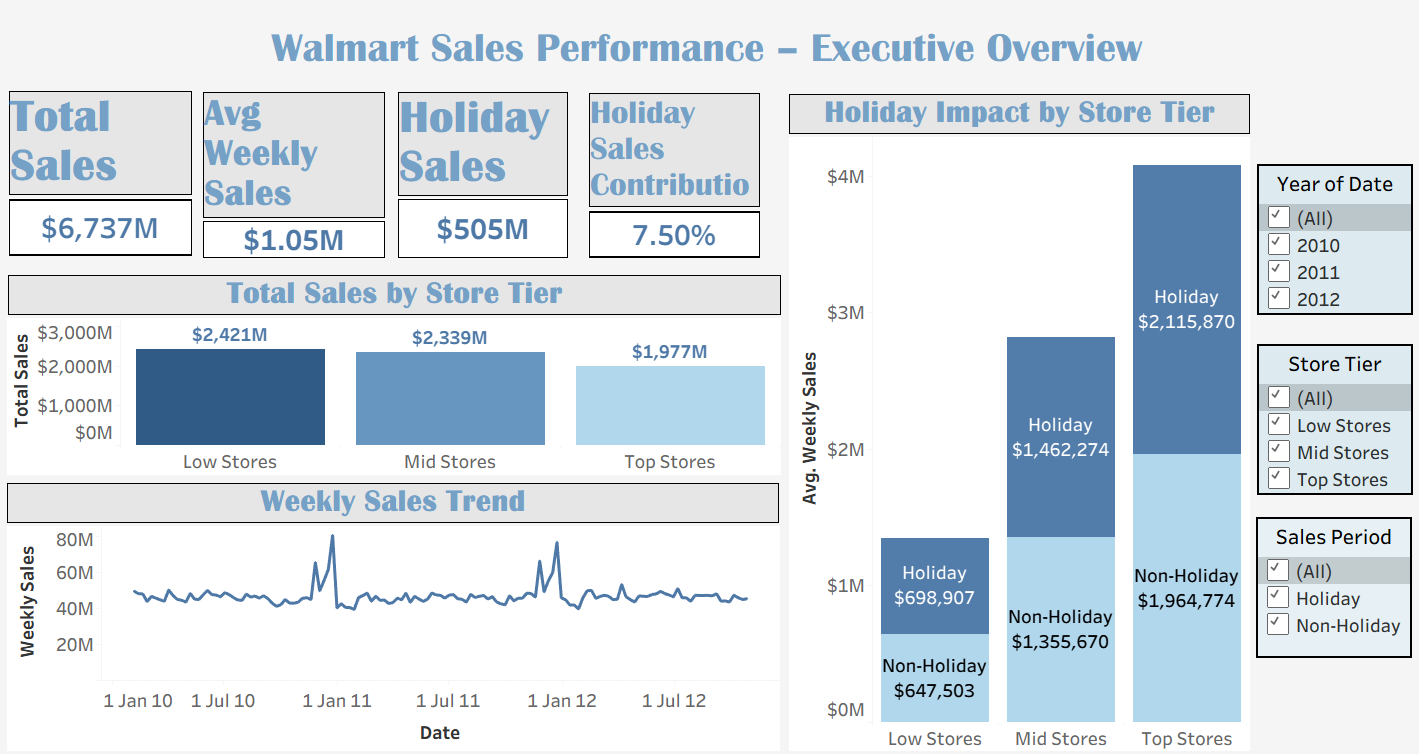

Layout of this report page (visuals, bound fields, positions):
{"tool":"tableau","page":{"name":"Dashboard 1","canvas":[1000,1000],"units":"permille","ordinal":0},"visuals":[{"type":"text","box":[1.9,15.8,993,97.6]},{"type":"worksheet","title":"KPI - Total Sales","mark":"Automatic","box":[5.6,121.4,129.7,217.7]},{"type":"worksheet","title":"KPI - Avg Weekly Sales","mark":"Automatic","box":[143.4,122.7,128.4,219]},{"type":"worksheet","title":"KPI - Holiday Sales","mark":"Automatic","box":[280.7,122.7,120.9,219]},{"type":"worksheet","title":"KPI- Holiday Sales Contribution %","mark":"Automatic","box":[414.4,124,121.6,217.7]},{"type":"worksheet","title":"Holiday Impact by Store Tier","mark":"Automatic","rows":["Weekly_Sales"],"cols":["Calculation_1073972749344774"],"box":[556.4,125.3,325.1,866.8]},{"type":"filter","title":"Holiday Impact by Store Tier","param":"[federated.04sxwte1ifblkv16q0a150ugl1o8].[yr:Date:ok]","box":[886.7,217.7,110.1,199.2]},{"type":"worksheet","title":"Sales by Store Tier","mark":"Automatic","rows":["Calculation_1073972720984064"],"cols":["Calculation_1073972749344774"],"box":[5.1,364.1,545.5,263.9]},{"type":"filter","title":"Holiday Impact by Store Tier","param":"[federated.04sxwte1ifblkv16q0a150ugl1o8].[none:Calculation_1073972749344774:nk]","box":[886.7,455.2,110.1,199.2]},{"type":"worksheet","title":"Weekly Sales Trend","mark":"Automatic","rows":["Weekly_Sales"],"cols":["Date"],"box":[5.1,638.5,545.5,353.6]},{"type":"filter","title":"Holiday Impact by Store Tier","param":"[federated.04sxwte1ifblkv16q0a150ugl1o8].[none:Calculation_1073972732690435:nk]","box":[886.1,683.4,110.1,186]}]}

Visuals, with their boxes on the dashboard's canvas, which has no fixed pixel size, in thousandths of its width and height (x1, y1, x2, y2). These are canvas units, not pixel positions in the 1419x754 screenshot, which may show the page scaled, cropped or inside an application window:
text: <region>2, 16, 995, 113</region>
"KPI - Total Sales" worksheet: <region>6, 121, 135, 339</region>
"KPI - Avg Weekly Sales" worksheet: <region>143, 123, 272, 342</region>
"KPI - Holiday Sales" worksheet: <region>281, 123, 402, 342</region>
"KPI- Holiday Sales Contribution %" worksheet: <region>414, 124, 536, 342</region>
"Holiday Impact by Store Tier" worksheet: <region>556, 125, 882, 992</region>
"Holiday Impact by Store Tier" filter: <region>887, 218, 997, 417</region>
"Sales by Store Tier" worksheet: <region>5, 364, 551, 628</region>
"Holiday Impact by Store Tier" filter: <region>887, 455, 997, 654</region>
"Weekly Sales Trend" worksheet: <region>5, 638, 551, 992</region>
"Holiday Impact by Store Tier" filter: <region>886, 683, 996, 869</region>
